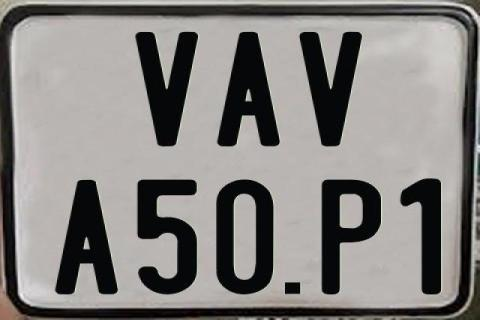0: (137, 180, 202, 298), (215, 180, 275, 300), (399, 178, 441, 298)
A: (214, 31, 278, 151), (55, 179, 122, 293)
P: (321, 179, 383, 297)
V: (299, 32, 365, 151), (134, 32, 196, 148)
